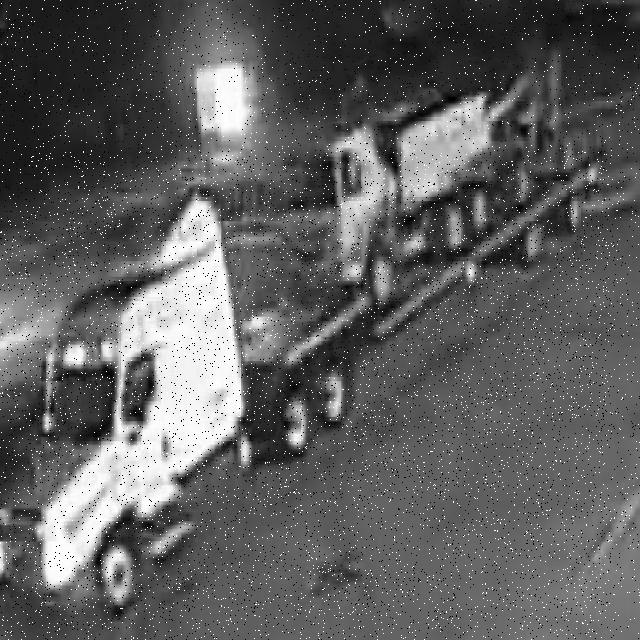Box Truck: (0, 150, 612, 639)
